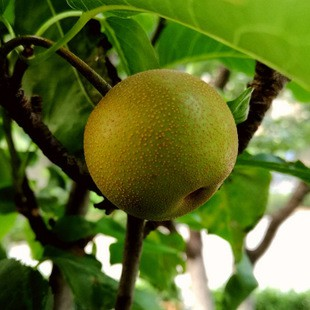pear: (83, 70, 237, 219)
